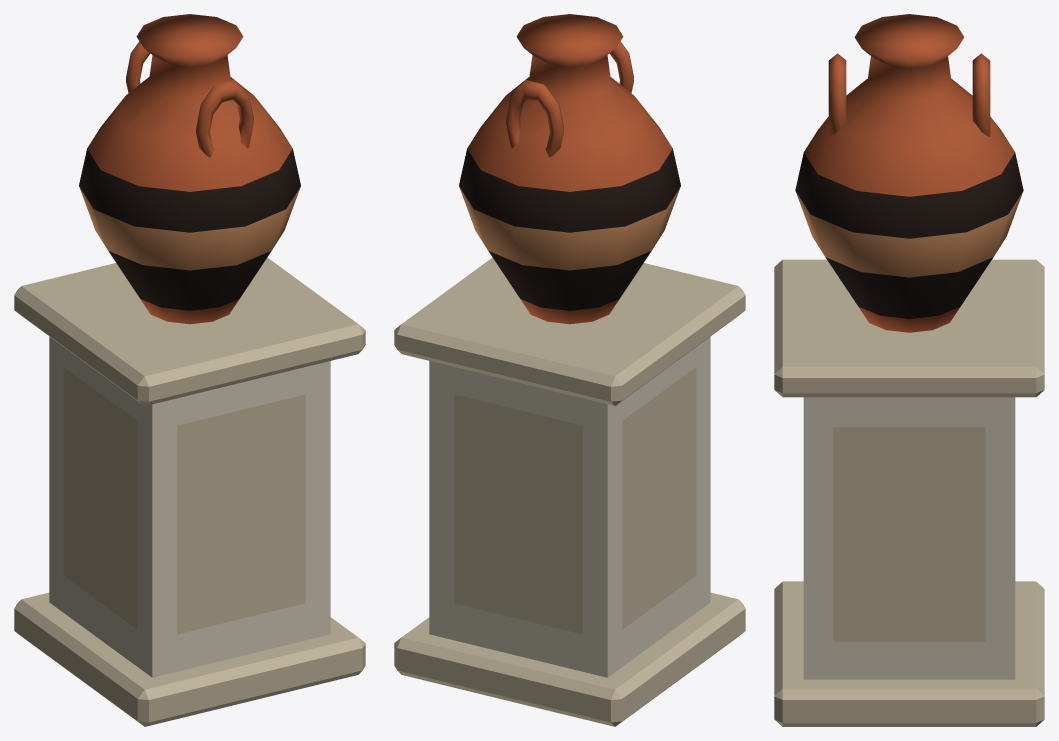
File: museum-prop2.glb
The picture shows the model from 3 angles, left to right: view 1: azimuth 30°, elevation 25°; view 2: azimuth 150°, elevation 25°; view 3: azimuth 270°, elevation 25°; orthographic projection. The views are drawn at different scales.
Visible parts, largest first — view 1: museum-prop2; view 2: museum-prop2; view 3: museum-prop2.
Part boxes in pixels (x1,y1,x2,y2): museum-prop2: [14, 14, 365, 726]; museum-prop2: [394, 14, 745, 726]; museum-prop2: [774, 14, 1044, 726].
Size of the model in its own units: 0.64 by 1.66 by 0.64.
